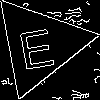E: (14, 19, 57, 70)
